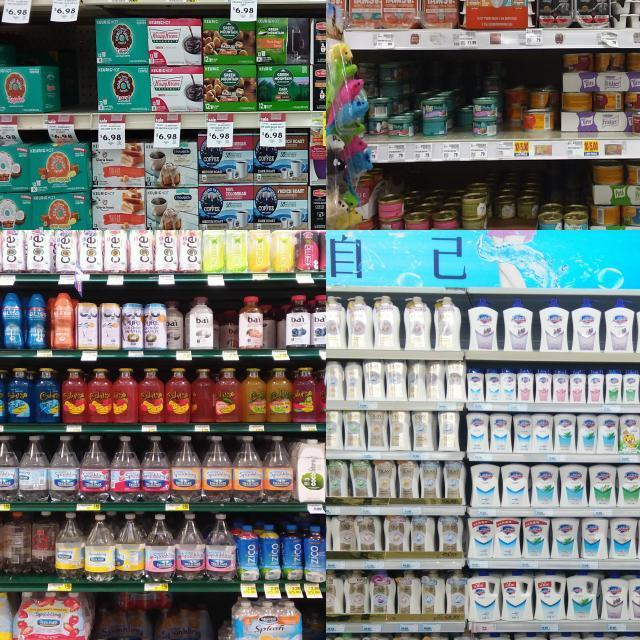empty: (65, 32, 95, 128)
